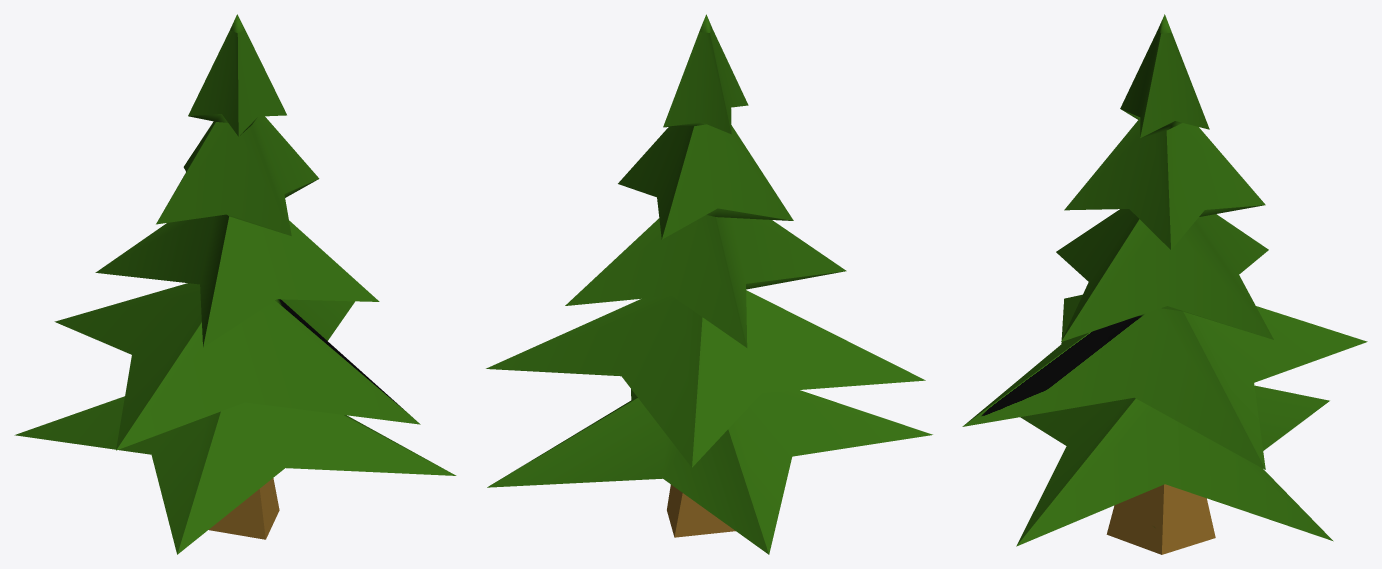
File: Tree.fbx
3 views of the same model, side by side, from view 1: azimuth 30°, elevation 25°; view 2: azimuth 150°, elevation 25°; view 3: azimuth 270°, elevation 25° (orthographic). The views are drawn at different scales.
Parts seen in each view (by area): view 1: Tree; view 2: Tree; view 3: Tree.
Boxes of the visible parts, box(x1,y1,x2,y2) form: Tree: box(14, 14, 456, 554); Tree: box(486, 14, 932, 554); Tree: box(962, 14, 1367, 554).
Bounding box in the file's own units: 4.16 × 5.89 × 4.16.
1 material, 1 textured.
